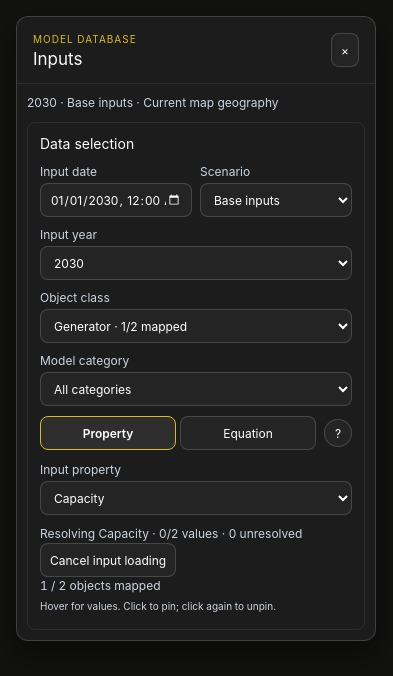
Test: available linked-file years allow a direct retry and tooltip measurements retain provenance
Expected: the text "1 / 2 objects mapped" is shown, [40,578,160,593]
Select "Native" in the dropdown labelled "Model category" at (196, 389), box [40,372,352,406]
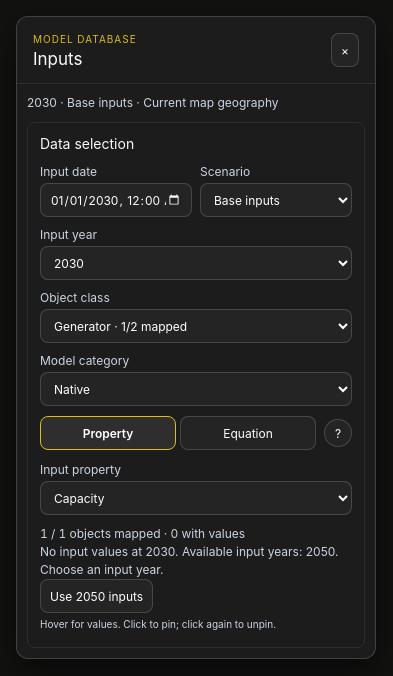
Now the text "No input values at 2030. Available input years: 2050. Choose an input year." is shown, box [40,543,352,579]
Click the button "Use 2050 inputs" at (97, 596), box [40,579,153,613]
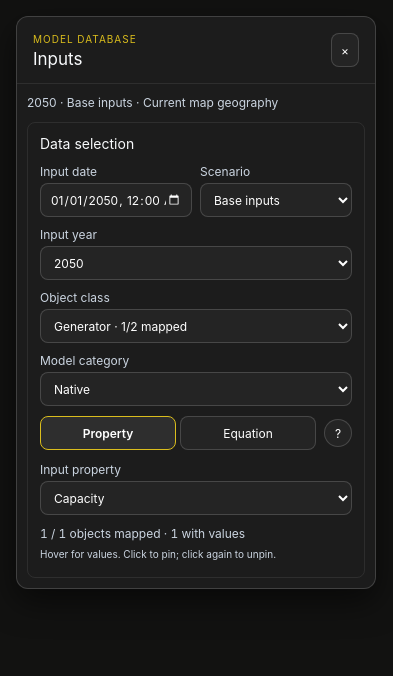
Now the dropdown labelled "Input year" shows "2050", box [40,246,352,280]
